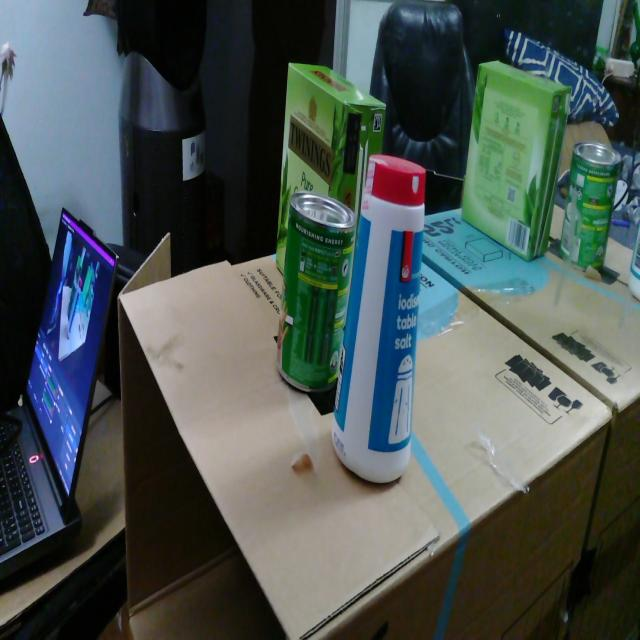nestle_milo_tin: (276, 191, 357, 391)
twinings_greentea_box: (276, 63, 386, 275)
woolworths_salt_bottle: (331, 155, 426, 483)
